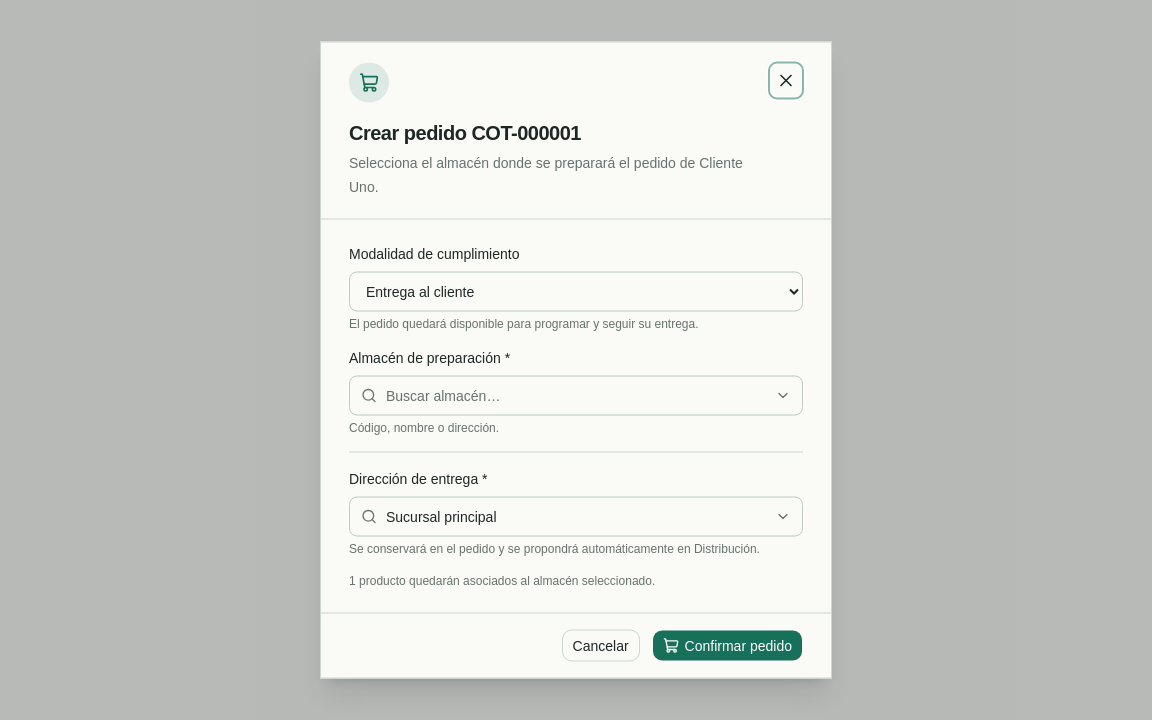
Scenario: DialogoSeleccionAlmacenPedido › filtra los almacenes por dirección
Type "pinos" into the dropdown labelled "Almacén de preparación" at (576, 396), box [349,376,803,416]
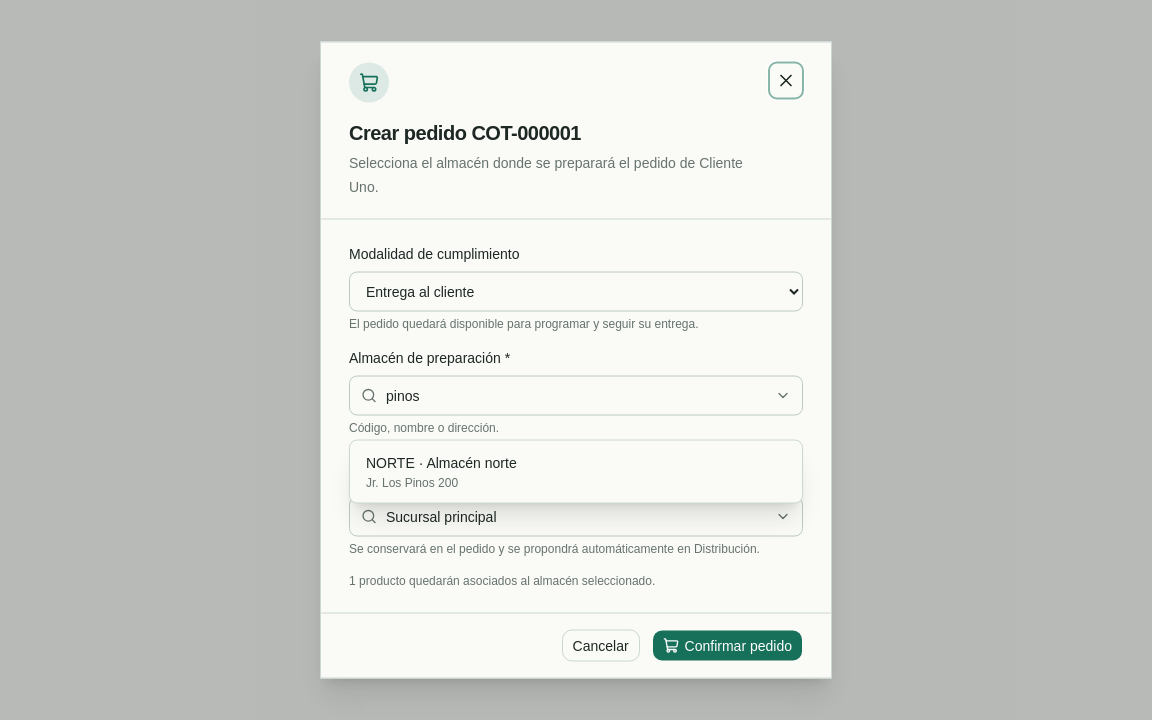
Now the option "NORTE · Almacén norte Jr. Los Pinos 200" is shown, box [366,454,517,490]
Now the option "CENTRAL · Almacén central" is gone
